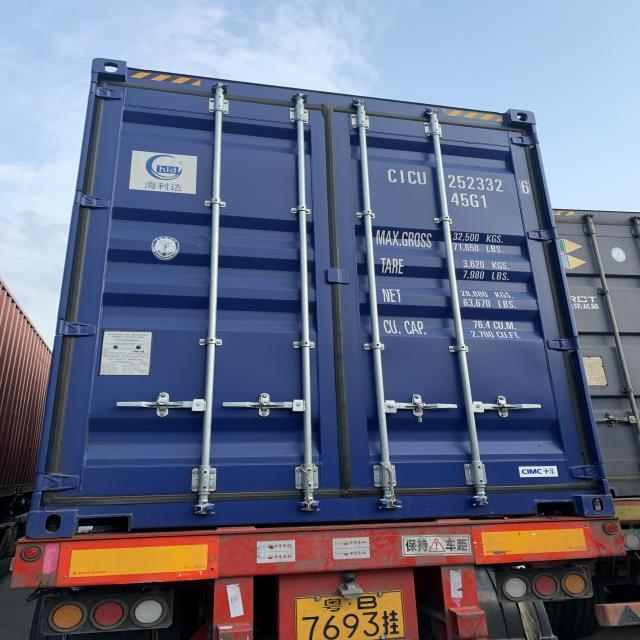ISO: (452, 193, 487, 210)
container_number: (388, 172, 543, 192)
